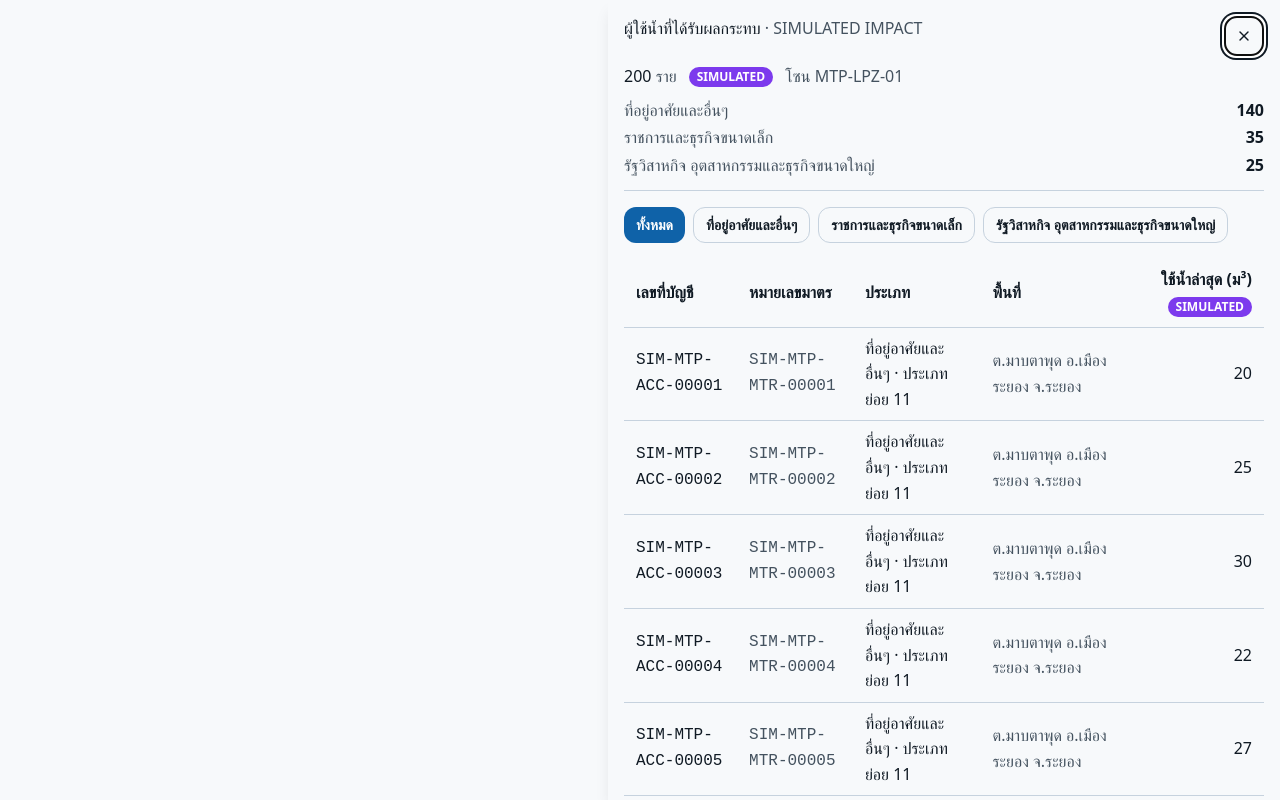
Test: AffectedCustomerDrawer (R5/R6/R8) › T4d: filtering to type 1 keeps the 200 headline AND every visible row is type 1
Click the button with test id "filter-type-1" at (752, 225), box [693,207,810,243]
(page scrolled)
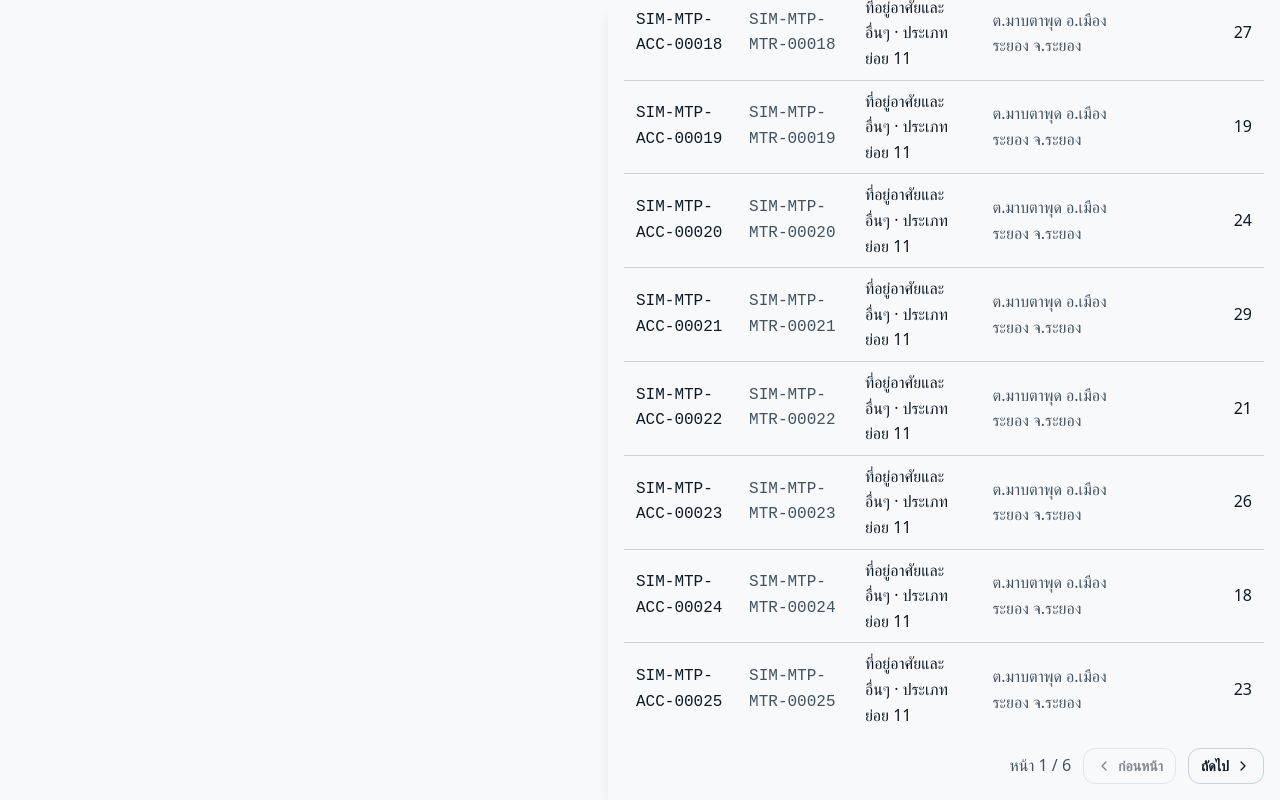
Expected: the row with test id "customer-row" shows "ที่อยู่อาศัย", [865,0,948,69]
Expected: the text with test id "pager" shows "6", [1062,754,1071,776]
